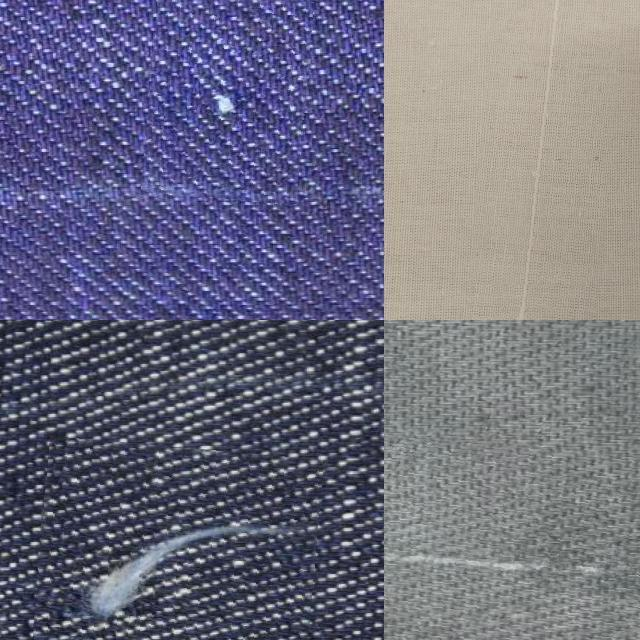Thread_other: (34, 440, 318, 640), (384, 425, 640, 640), (461, 0, 620, 320), (146, 0, 310, 201)
